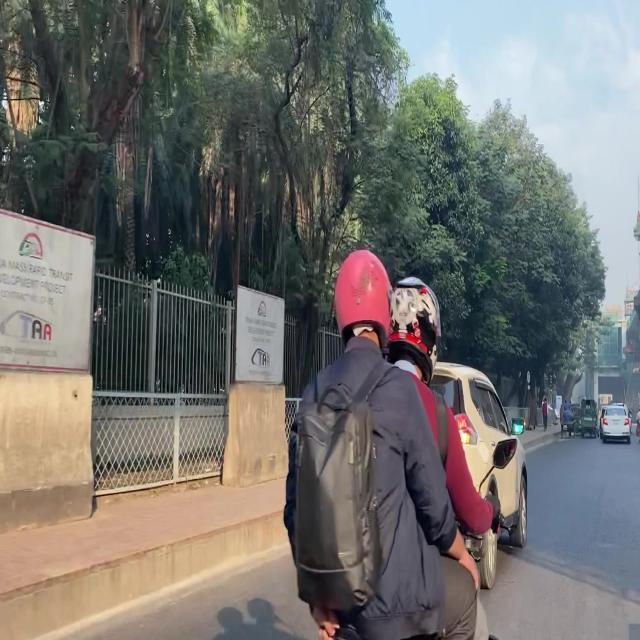car: (349, 361, 528, 593), (601, 405, 632, 445)
motorbike: (260, 407, 519, 640)
